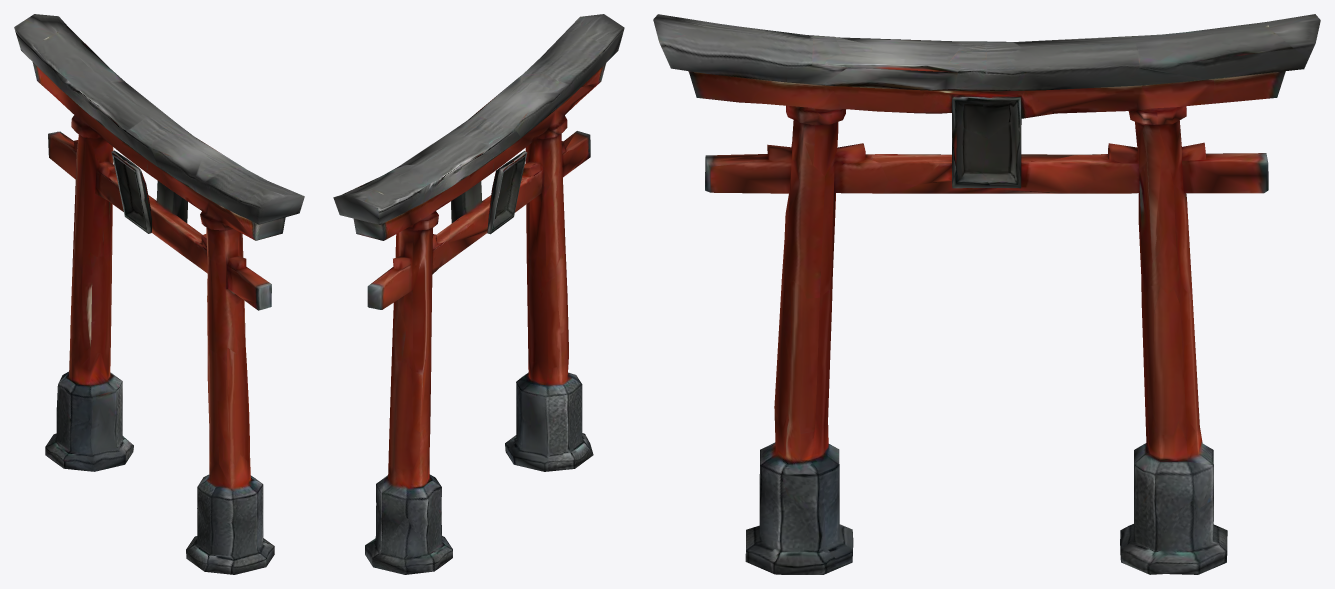
File: au_env_neon_torii.glb
The picture shows the model from 3 angles, left to right: view 1: azimuth 30°, elevation 25°; view 2: azimuth 150°, elevation 25°; view 3: azimuth 270°, elevation 25°; orthographic projection. The views are drawn at different scales.
Parts seen in each view (by area): view 1: tripo_node_7944ba07-aac1-472d-bf3a-d9a3a79febfb; view 2: tripo_node_7944ba07-aac1-472d-bf3a-d9a3a79febfb; view 3: tripo_node_7944ba07-aac1-472d-bf3a-d9a3a79febfb.
Boxes of the visible parts, x1,y1,x2,y2 form: tripo_node_7944ba07-aac1-472d-bf3a-d9a3a79febfb: (14, 14, 304, 574); tripo_node_7944ba07-aac1-472d-bf3a-d9a3a79febfb: (333, 14, 624, 574); tripo_node_7944ba07-aac1-472d-bf3a-d9a3a79febfb: (653, 14, 1320, 574).
Bounding box in the file's own units: 0.1611 × 0.863 × 0.9798.
Materials: 1 (1 with a texture image).
